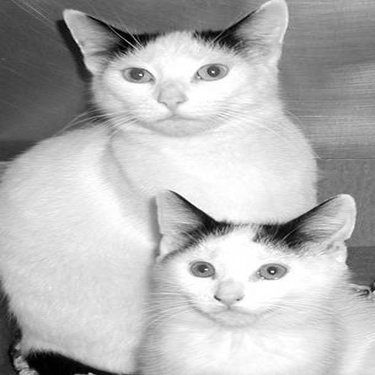cat: (1, 13, 317, 324), (137, 184, 373, 366)
